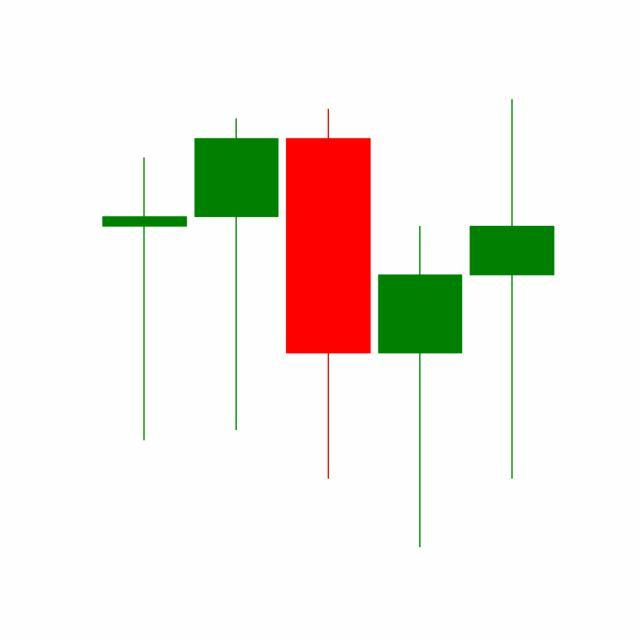Spinning Top: (466, 95, 559, 484)
